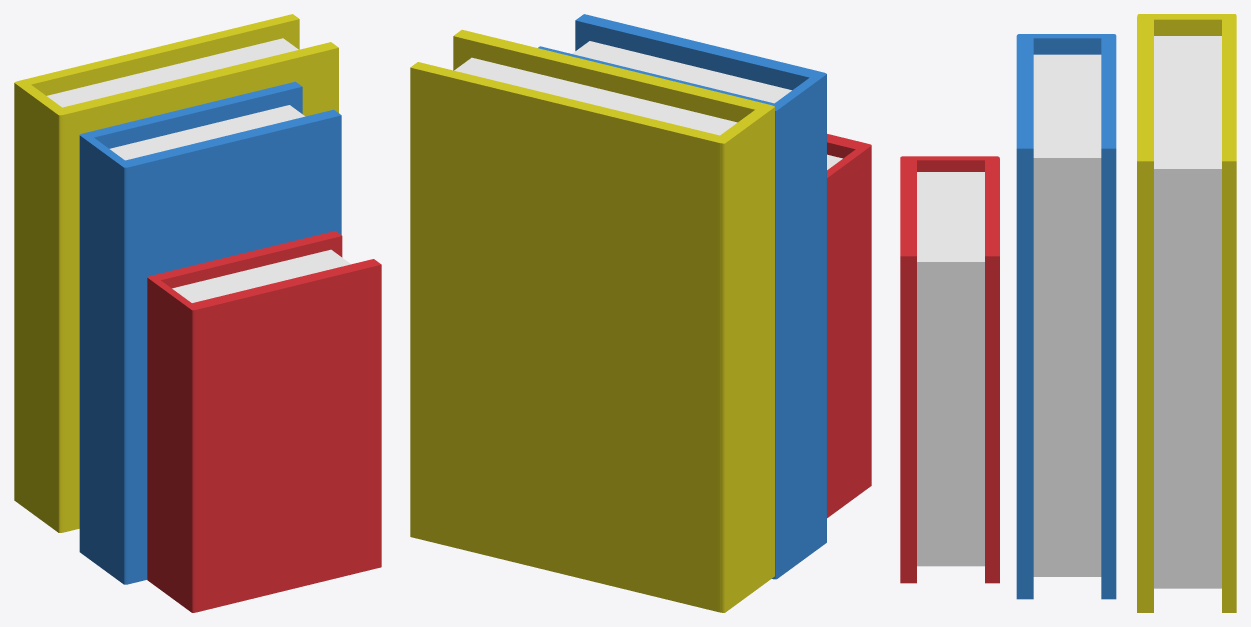
Rendered from Buku.fbx.
The picture shows the model from 3 angles, left to right: view 1: azimuth 30°, elevation 25°; view 2: azimuth 150°, elevation 25°; view 3: azimuth 270°, elevation 25°; orthographic projection. The views are drawn at different scales.
Parts seen in each view (by area): view 1: Buku.005, Buku.004, Buku.003; view 2: Buku.003, Buku.004, Buku.005; view 3: Buku.003, Buku.004, Buku.005.
Boxes of the visible parts, <box> form: Buku.005: <box>147,231,381,612</box>; Buku.004: <box>79,81,341,584</box>; Buku.003: <box>14,14,338,532</box>; Buku.003: <box>410,29,774,612</box>; Buku.004: <box>538,14,826,579</box>; Buku.005: <box>827,134,871,517</box>; Buku.003: <box>1137,14,1236,612</box>; Buku.004: <box>1016,34,1116,599</box>; Buku.005: <box>900,156,999,583</box>.
Size of the model in its own units: 140 by 206 by 135.
